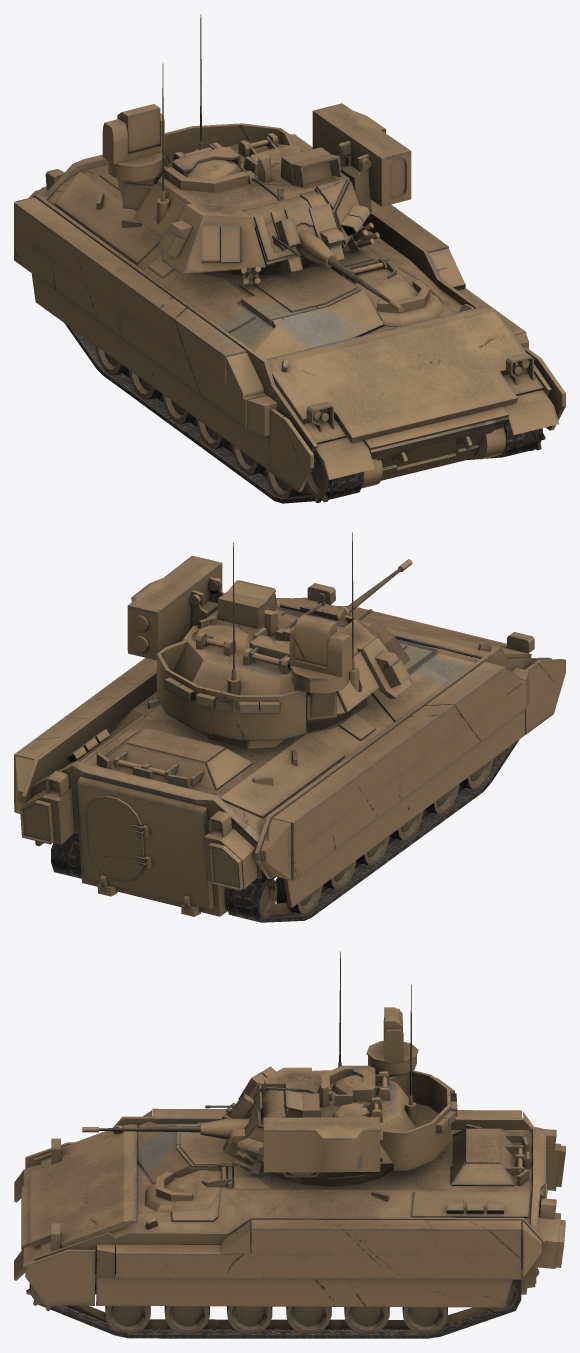
The model's file is bradley-model.glb.
The picture shows the model from 3 angles, top to bottom: view 1: azimuth 30°, elevation 25°; view 2: azimuth 150°, elevation 25°; view 3: azimuth 270°, elevation 25°; orthographic projection. The views are drawn at different scales.
Parts seen in each view (by area): view 1: main_body, Turret; view 2: main_body, Turret; view 3: main_body, Turret.
Part boxes in pixels (bbox=[...]): main_body: bbox=[14, 134, 565, 503]; Turret: bbox=[102, 14, 411, 312]; main_body: bbox=[14, 583, 565, 922]; Turret: bbox=[127, 532, 413, 740]; main_body: bbox=[14, 1108, 565, 1338]; Turret: bbox=[82, 951, 457, 1178].
Size of the model in its own units: 344 by 406 by 672.
Materials: 1 (1 with a texture image).
